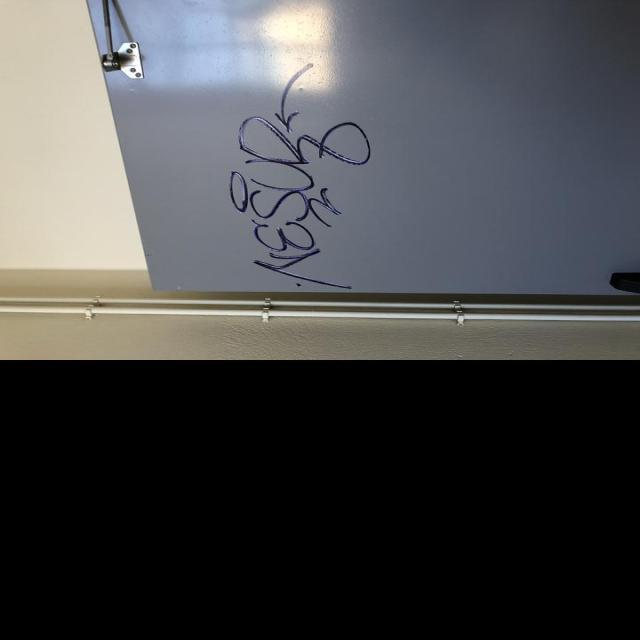nonspitting: (229, 61, 372, 293)
